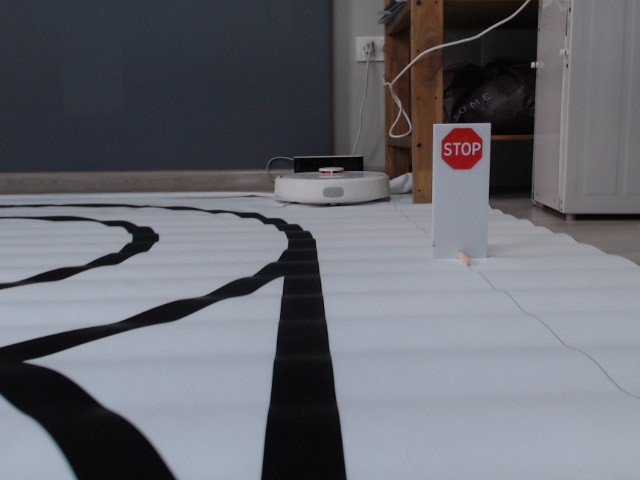Stop: (440, 127, 483, 171)
